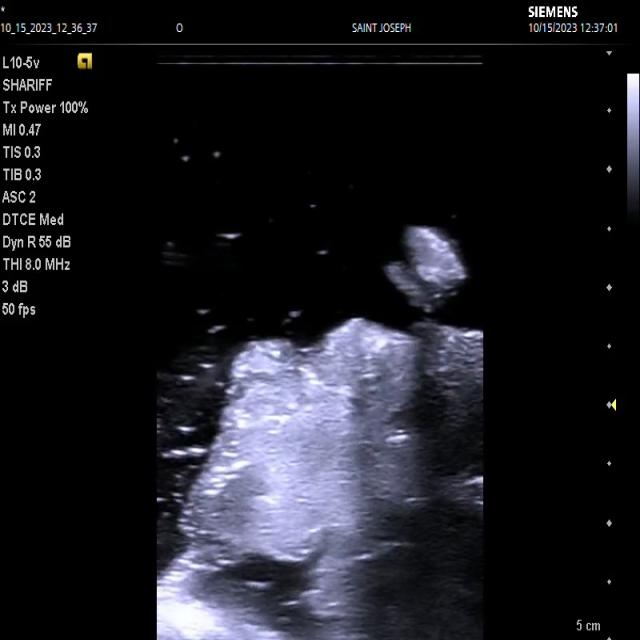tissue: (157, 318, 484, 640), (382, 225, 466, 307)
